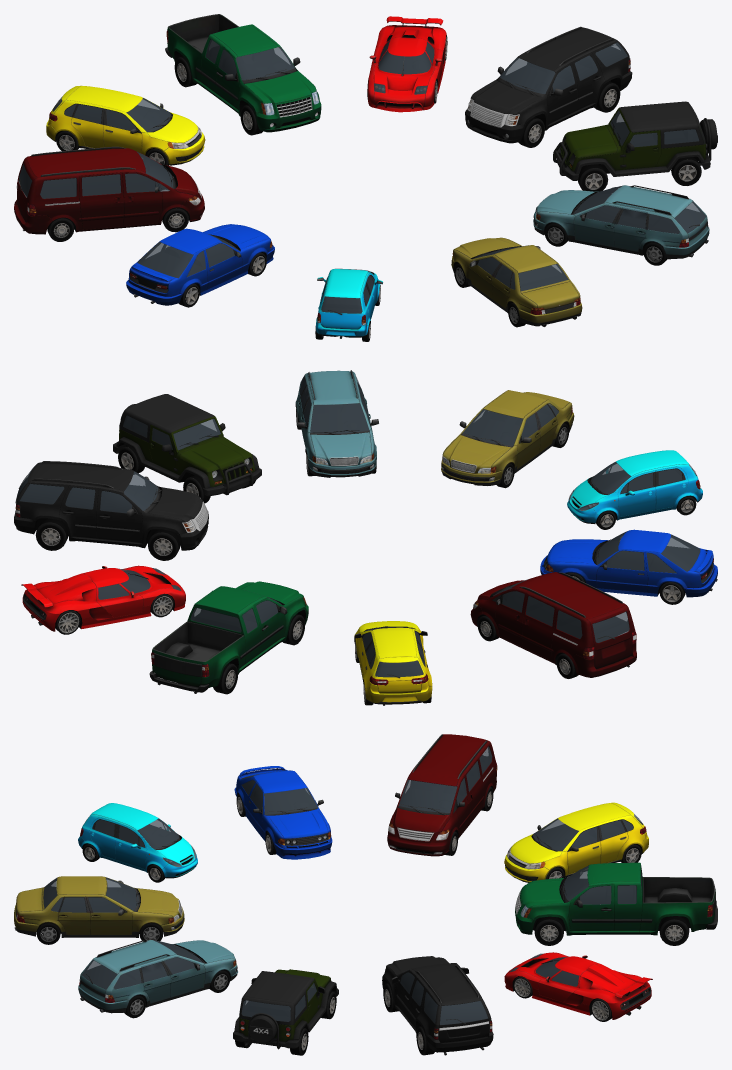
File: cars.glb
The picture shows the model from 3 angles, top to bottom: view 1: azimuth 30°, elevation 25°; view 2: azimuth 150°, elevation 25°; view 3: azimuth 270°, elevation 25°; orthographic projection. The views are drawn at different scales.
Parts seen in each view (by area): view 1: body:minivan, body:SUV, body:Pickup, body:Wagon, body:Offroad, body:Hatchback, body:Coupe, body:Sedan, body:Sport, body:Compact, wheel:G (×2), wheel:E (×2) (+1 smaller); view 2: body:SUV, body:minivan, body:Pickup, body:Offroad, body:Coupe, body:Sedan, body:Wagon, body:Sport, body:Compact, body:Hatchback, wheel:E (×2); view 3: body:Pickup, body:minivan, body:Sedan, body:Wagon, body:SUV, body:Hatchback, body:Coupe, body:Offroad, body:Sport, body:Compact, wheel:E (×2).
Boxes of the visible parts, x1,y1,x2,y2 form: body:minivan: (14,146,204,234); body:SUV: (465,26,632,143); body:Pickup: (165,14,321,132); body:Wagon: (533,185,709,259); body:Offroad: (553,101,717,180); body:Hatchback: (46,85,205,165); body:Coupe: (126,224,274,305); body:Sedan: (451,237,582,326); body:Sport: (367,16,446,112); body:Compact: (316,268,382,338); wheel:G (×2): (578,157,701,191); wheel:E (×2): (518,81,620,147); body:SUV: (14,461,208,550); body:minivan: (470,572,636,677); body:Pickup: (149,581,308,693); body:Offroad: (113,394,261,496); body:Coupe: (540,529,717,597); body:Sedan: (441,390,574,485); body:Wagon: (295,370,378,477); body:Sport: (21,565,185,631); body:Compact: (567,450,702,523); body:Hatchback: (354,621,432,705); wheel:E (×2): (35,518,180,560); body:Pickup: (515,862,717,935); body:minivan: (387,734,497,856); body:Sedan: (14,876,184,937); body:Wagon: (78,940,237,1013); body:SUV: (382,956,493,1055); body:Hatchback: (504,802,648,882); body:Coupe: (234,766,332,859); body:Offroad: (233,969,338,1049); body:Sport: (504,952,652,1019); body:Compact: (78,803,197,878); wheel:E (×2): (534,916,689,945).
Size of the model in its own units: 18.99 by 1.99 by 20.22.
20 materials, 19 textured.
